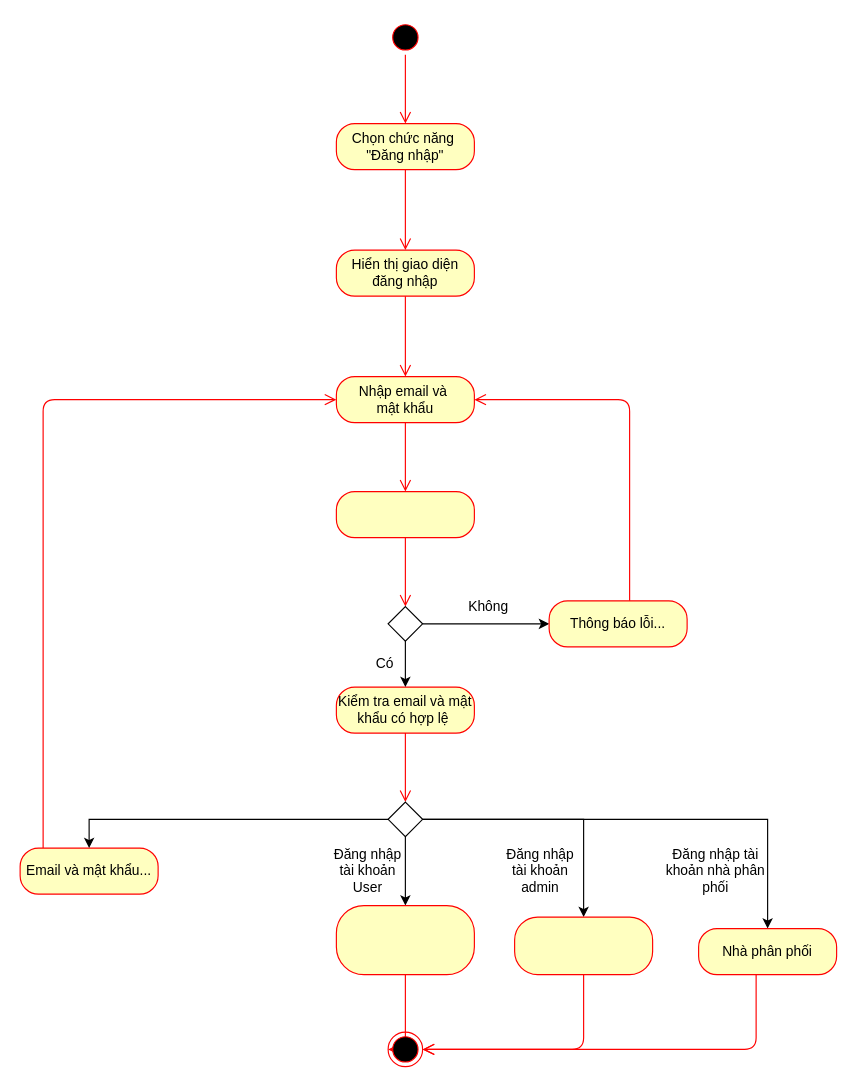
Image size: 857x1087. Some labels were removed from this diagram. Here are the shapes that lost their labels. From the top down, the centre of each, then its label:
At point (404, 514): "Kiểm tra xem Guest đã đăng nhập các trường bắt buộc".
At point (404, 939): "Hiện thị trang chủ dành cho User nếu Guest đăng nhập thành User".
At point (583, 945): "Guest thành admin hiển thị giao diện dành cho admin".
